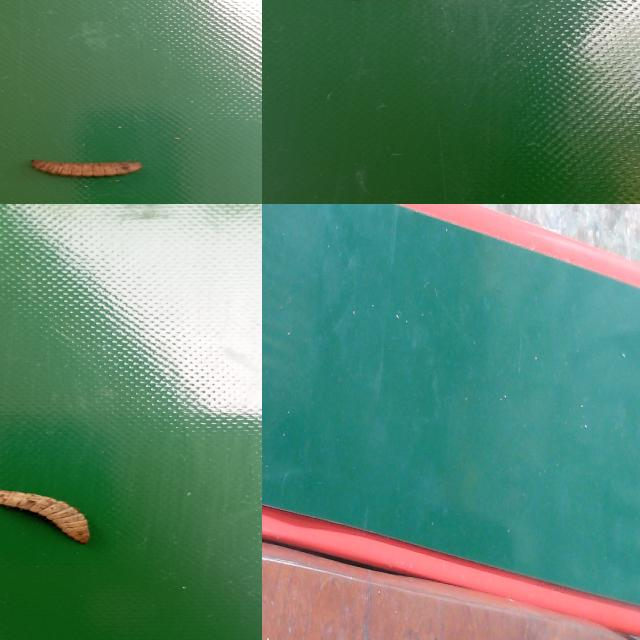Maggot: (0, 491, 92, 546), (31, 159, 144, 180)
